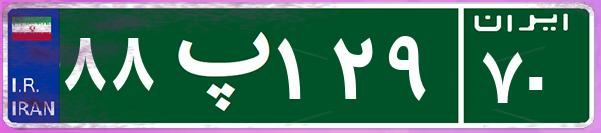0: (525, 38, 570, 115)
1: (273, 28, 330, 110)
2: (330, 28, 385, 110)
7: (475, 38, 525, 113)
8: (57, 26, 110, 107), (110, 28, 158, 105)
9: (385, 28, 445, 110)
پ: (158, 15, 273, 115)
